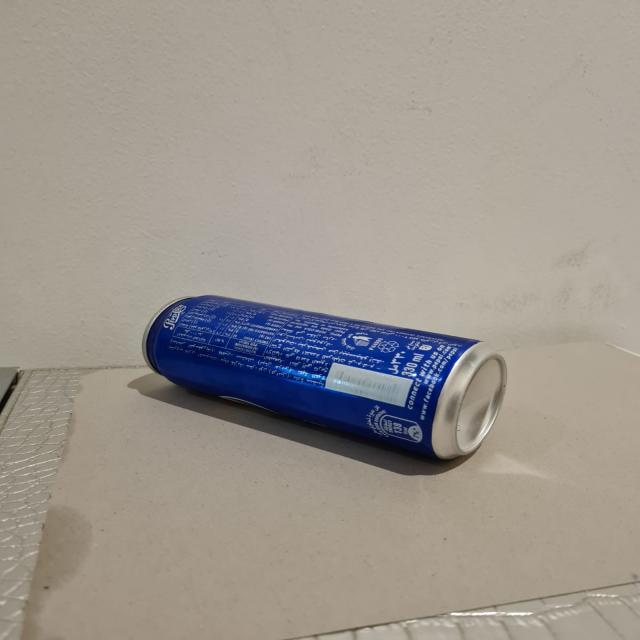can: (136, 284, 520, 472)
